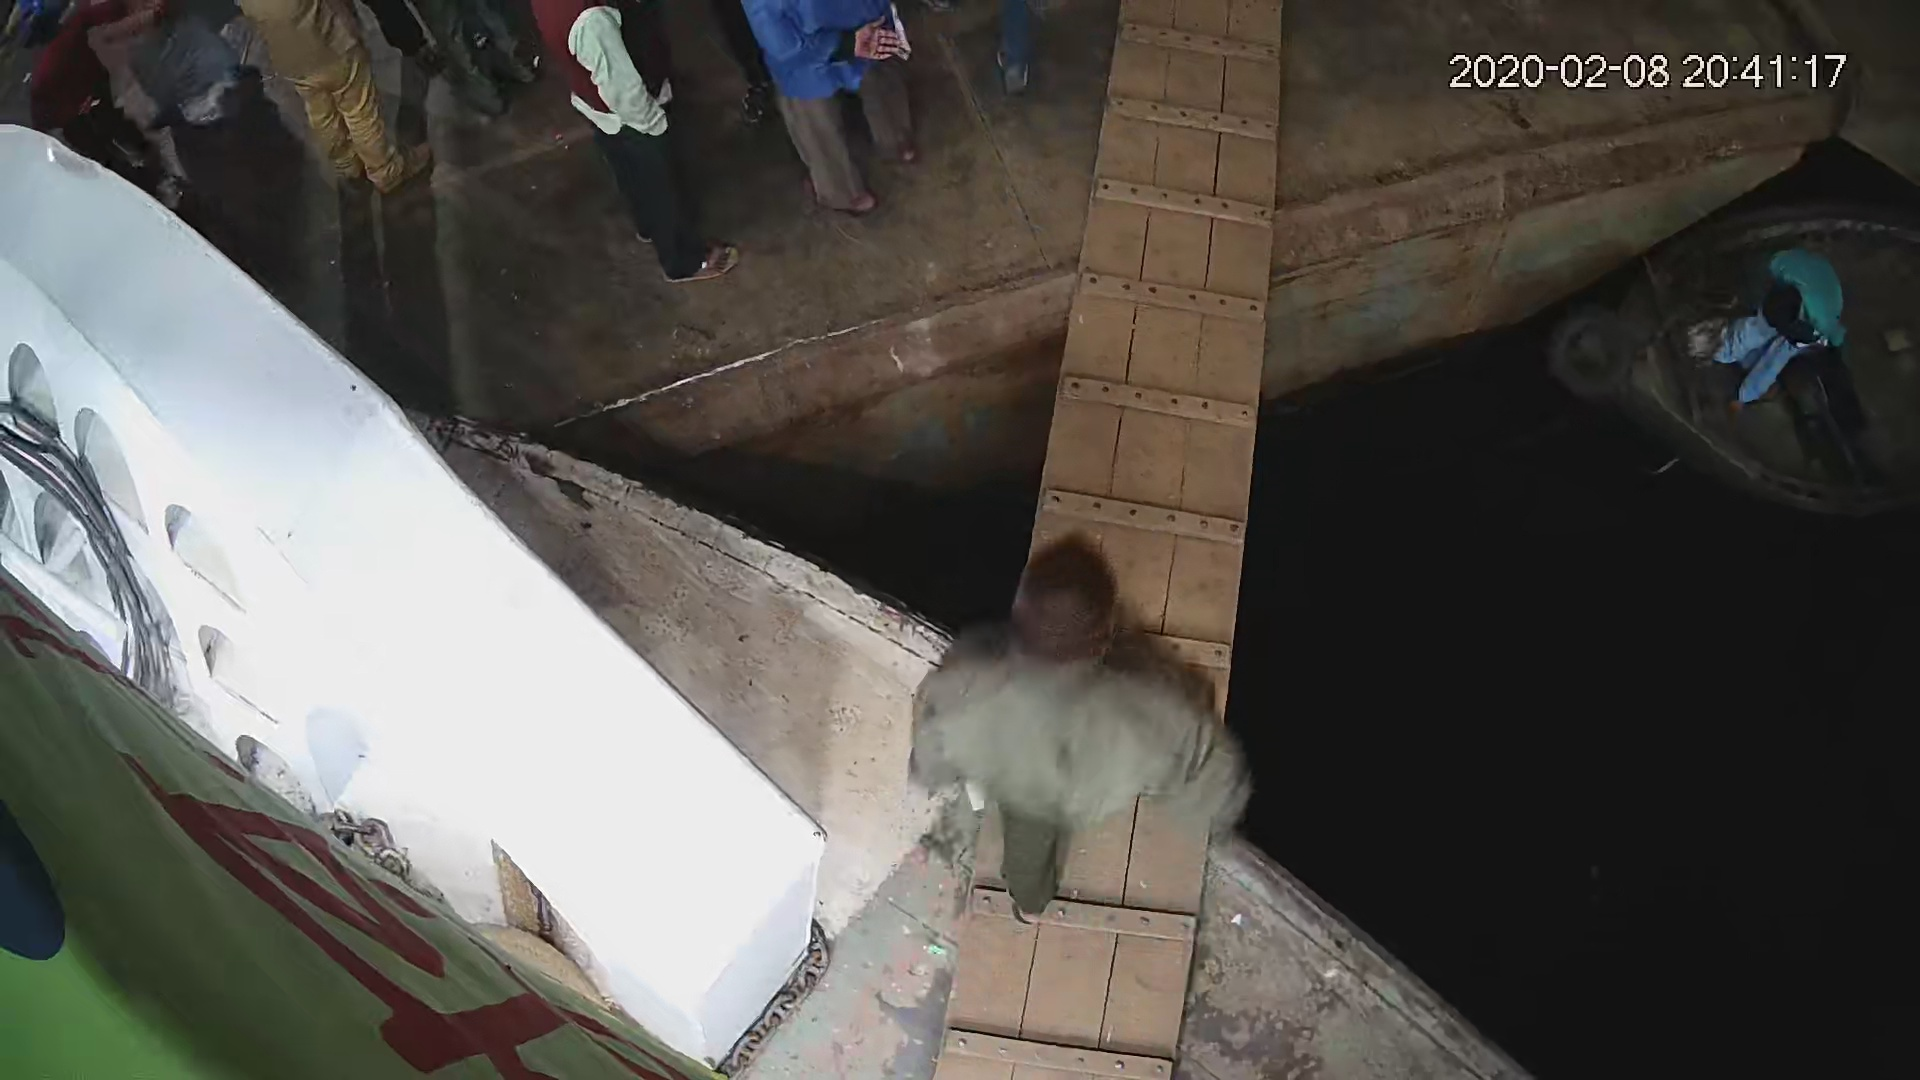person: (900, 526, 1260, 928), (524, 1, 748, 295), (1686, 238, 1858, 418)
